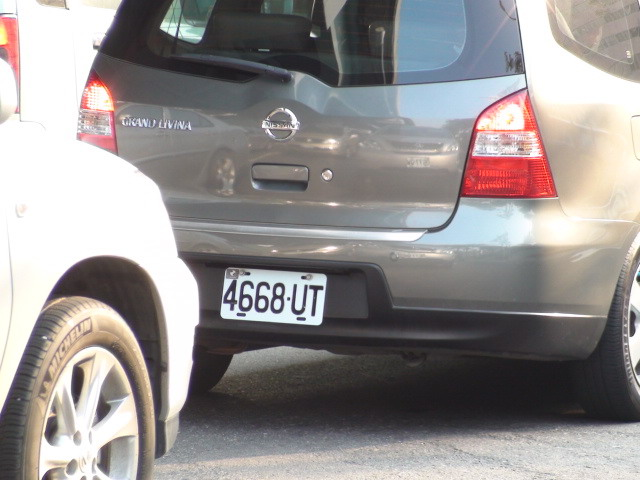plate: (219, 264, 331, 330)
